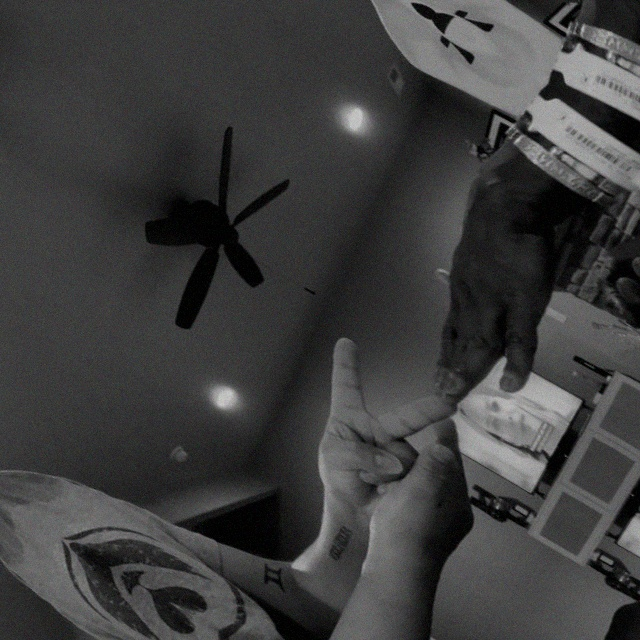Paper: (375, 171, 609, 432)
Scissors: (267, 333, 461, 529)
